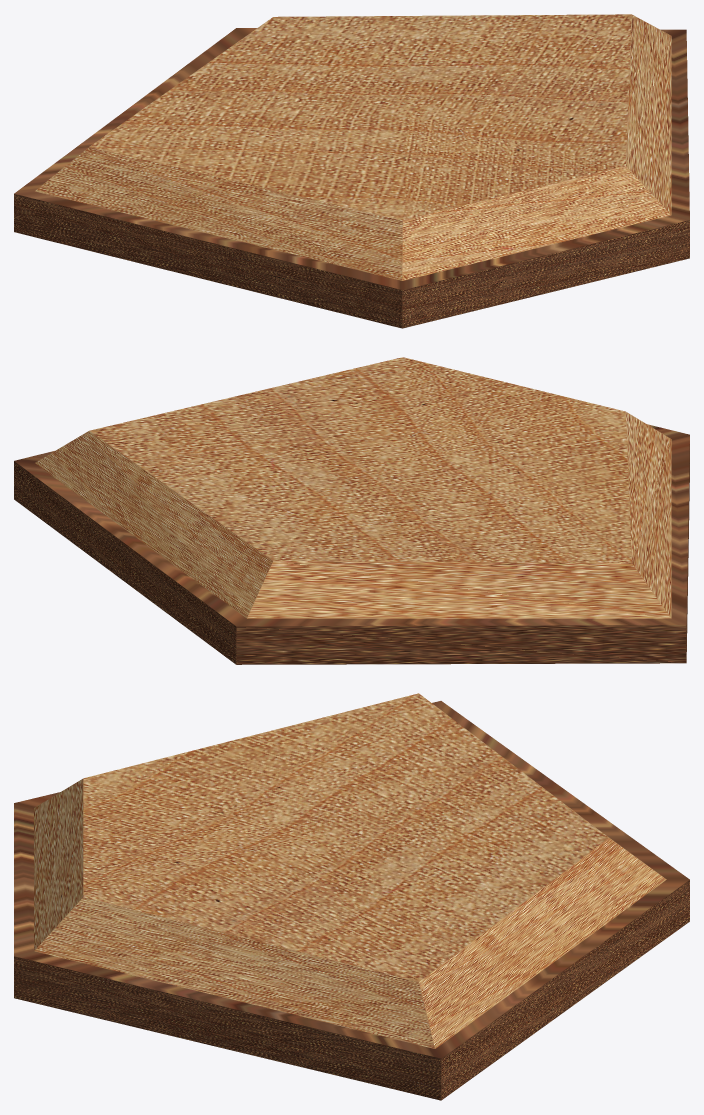
Rendered from Pentagon.FBX.
3 views of the same model, one above another, from view 1: azimuth 30°, elevation 25°; view 2: azimuth 150°, elevation 25°; view 3: azimuth 270°, elevation 25° (orthographic). The views are drawn at different scales.
Visible parts, largest first — view 1: Pentagon; view 2: Pentagon; view 3: Pentagon.
Part boxes in pixels (bbox=[...]): Pentagon: bbox=[14, 14, 689, 328]; Pentagon: bbox=[14, 357, 689, 664]; Pentagon: bbox=[14, 693, 689, 1100].
Bounding box in the file's own units: 18.29 × 14.59 × 2.
